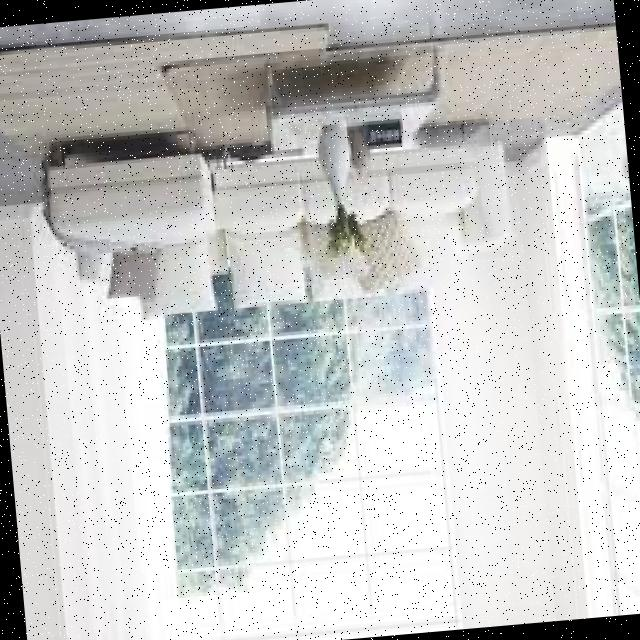Sofa: (10, 96, 536, 361)
